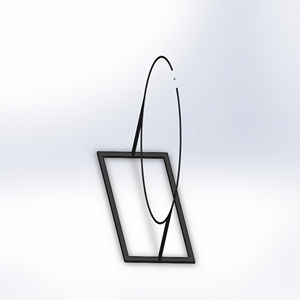circle: (94, 53, 197, 265)
